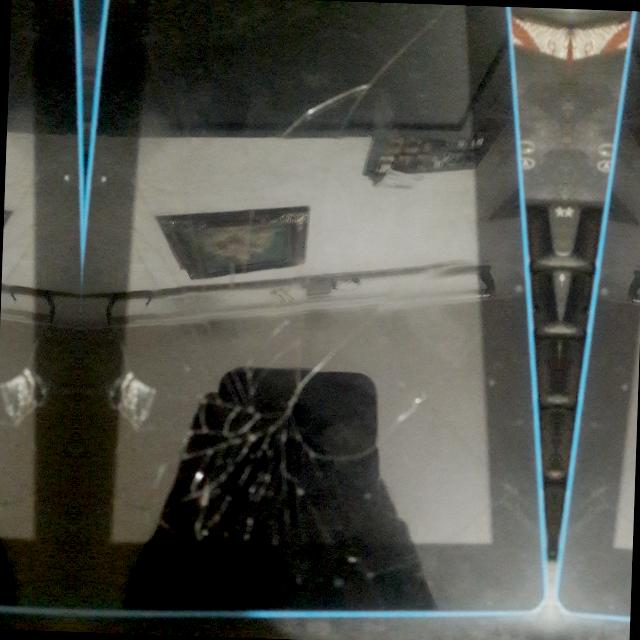phone_screen: (93, 2, 562, 618), (558, 18, 640, 621), (0, 0, 68, 601)
